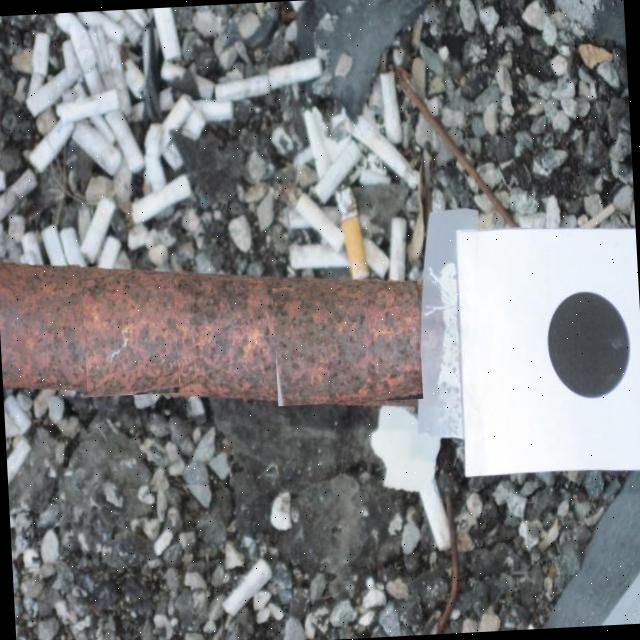Corrosion: (0, 234, 428, 424)
